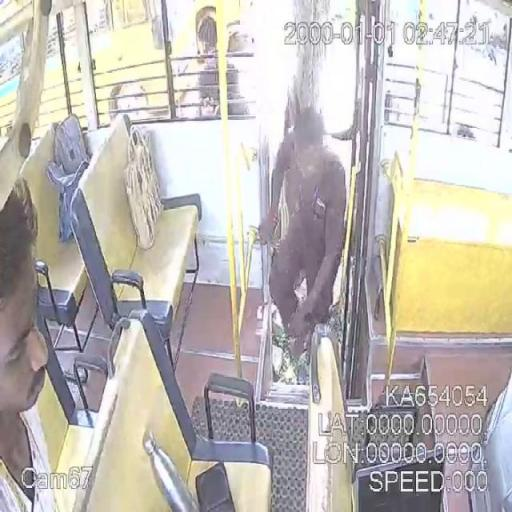persona: (258, 106, 348, 372), (0, 176, 58, 510)
